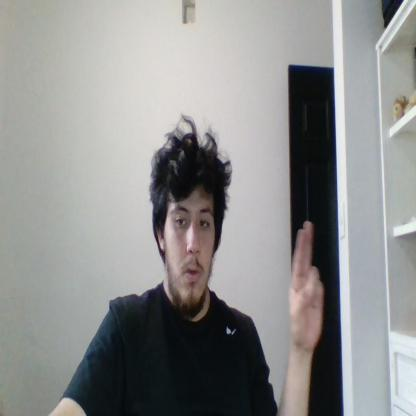U: (290, 220, 323, 352)
